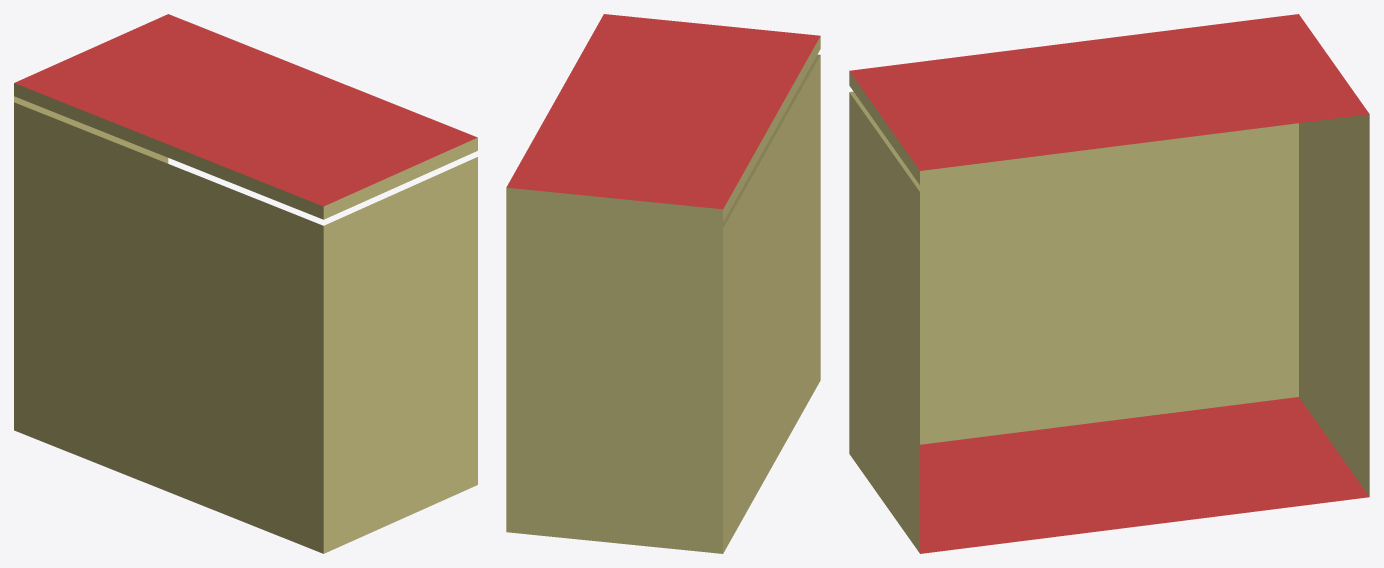
The picture shows the model from 3 angles, left to right: view 1: azimuth 30°, elevation 25°; view 2: azimuth 150°, elevation 25°; view 3: azimuth 270°, elevation 25°; orthographic projection. The views are drawn at different scales.
Bounding box in the file's own units: 5.07 × 7.1 × 5.76.
